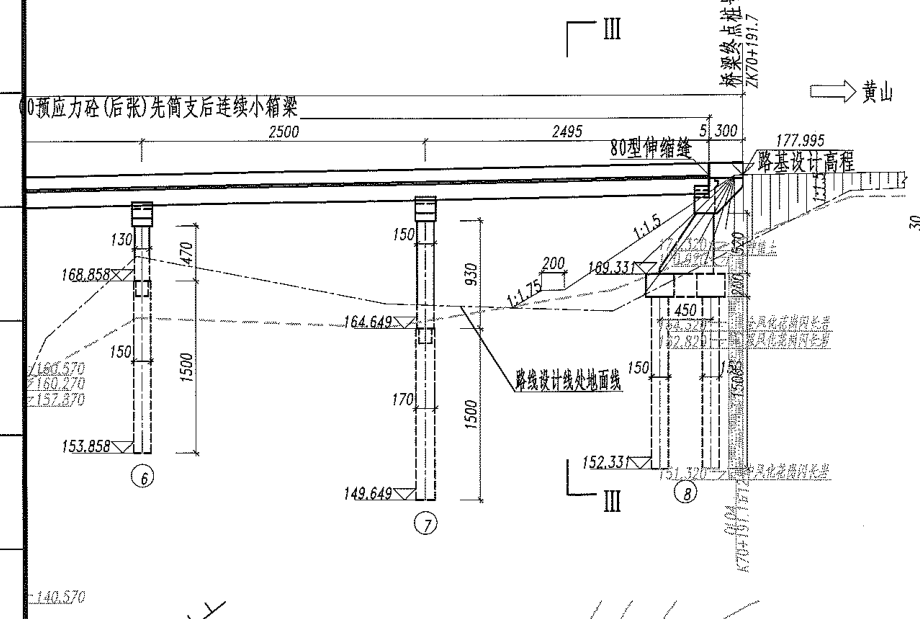C: (339, 187, 446, 550), (584, 253, 728, 507), (59, 194, 172, 494)
